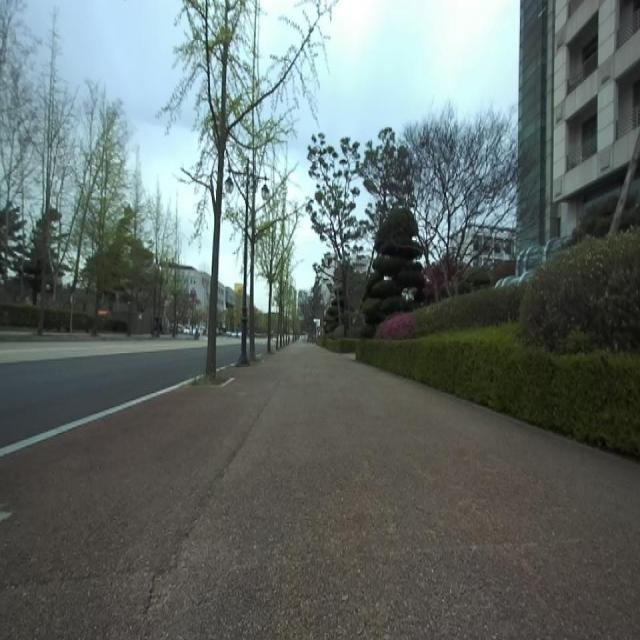sidewalk: (0, 343, 640, 639), (0, 378, 196, 456)
